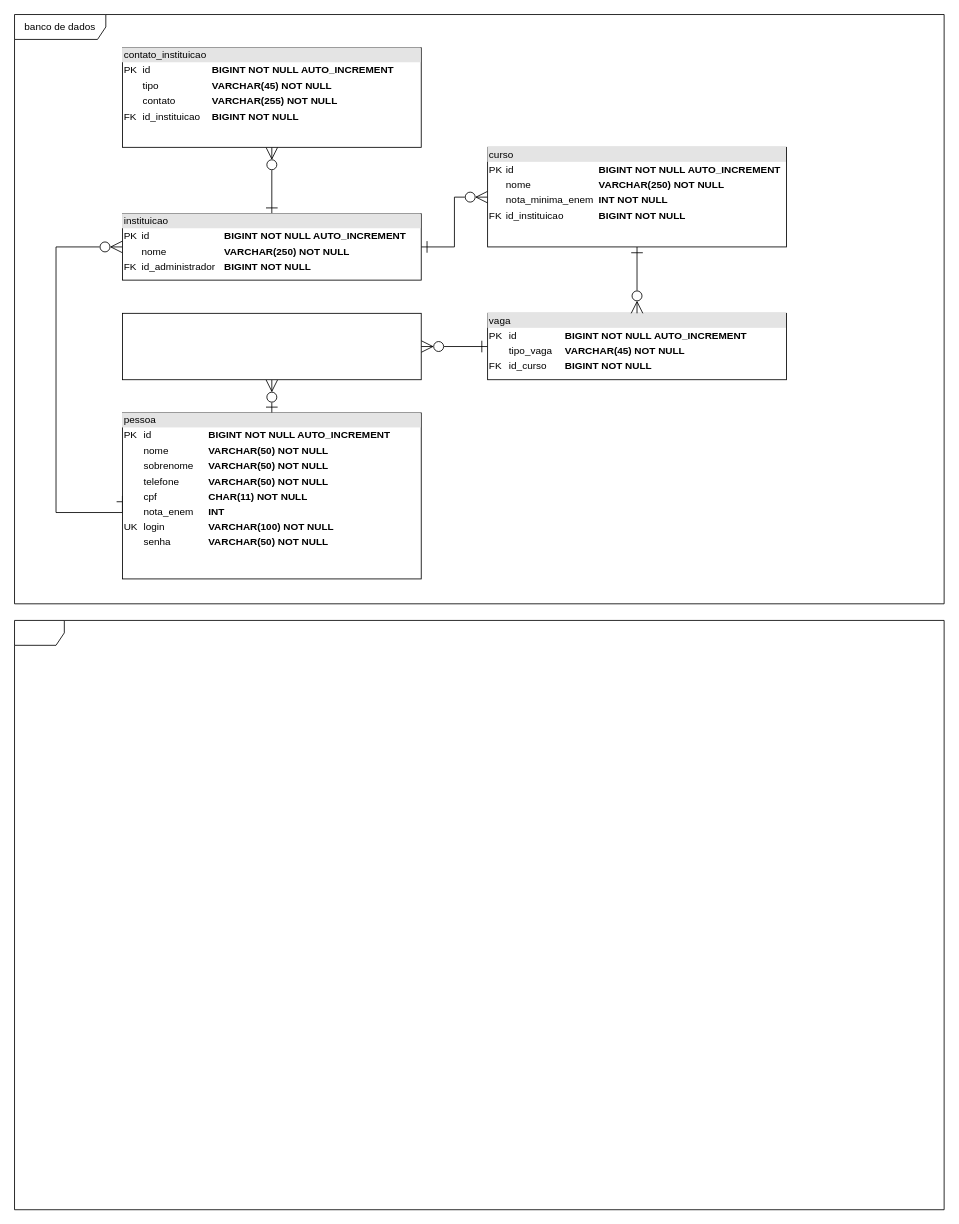
The diagram is 959 pixels wide and 1224 high, and some of its shapes have lost their labels. Here are the shapes that lost their labels. From the top down, the centre of each, then its label:
(x=271, y=346): vaga_pessoa PK/FK id_vaga BIGINT NOT NULL PK/FK id_pessoa BIGINT NOT NULL
(x=479, y=915): backend
